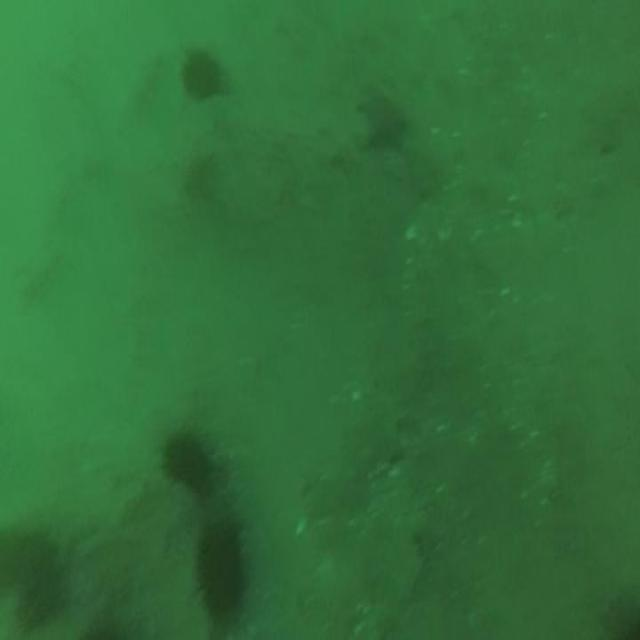echinus: (188, 500, 258, 628), (159, 428, 229, 514), (180, 42, 224, 108)
starfish: (356, 82, 410, 164)
